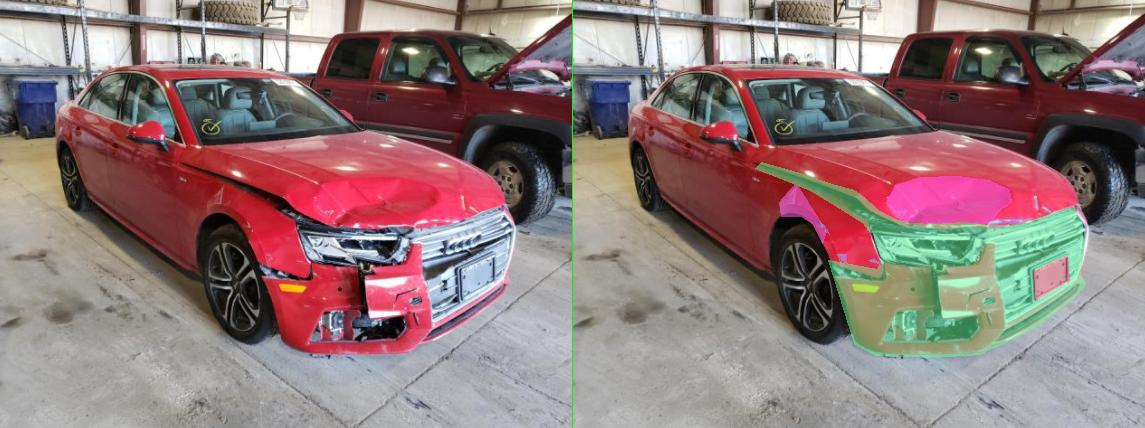Broken part: (510, 227, 1027, 357), (364, 162, 905, 237), (811, 207, 1021, 325), (599, 230, 819, 265)
Dent: (627, 176, 877, 226), (412, 183, 506, 243)
Missing part: (921, 255, 993, 300)
Scratch: (707, 219, 919, 227), (482, 220, 512, 234), (526, 254, 546, 264), (591, 258, 617, 264), (943, 206, 957, 212), (925, 197, 931, 208)
